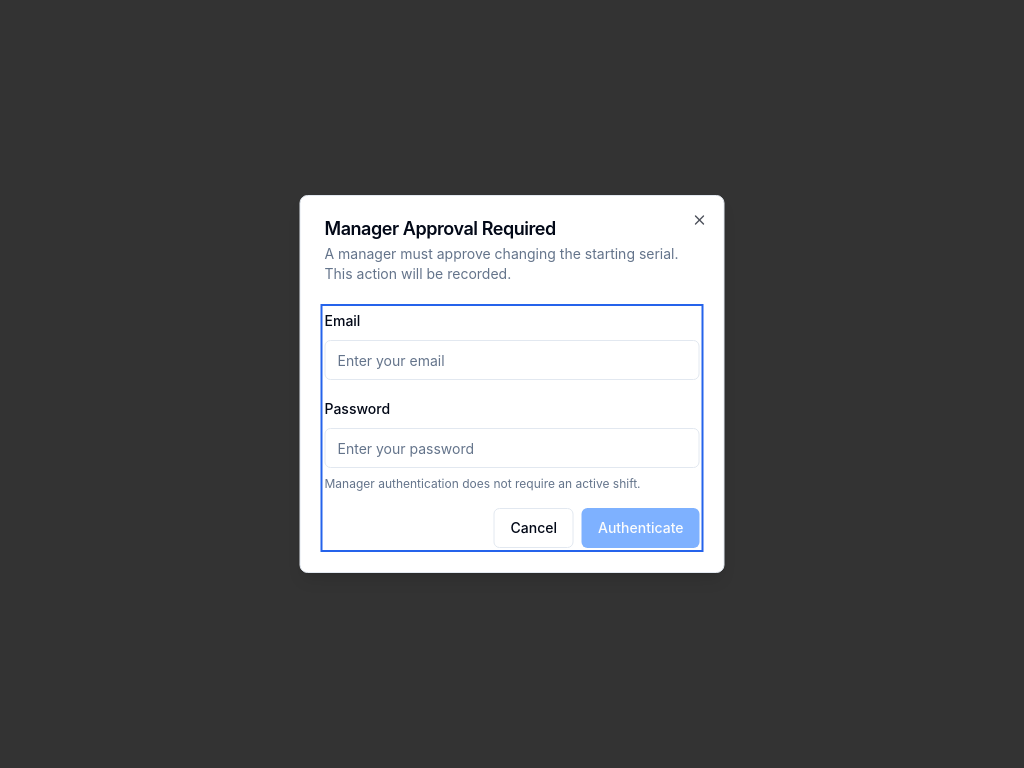
it: LotteryAuthModal › Serial Override Mode › LAM-022: should reject manager without LOTTERY_SERIAL_OVERRIDE permission
Enter email and password
Type "limited@example.com" into the field with test id "email-input".
click(512, 360); type("limited@example.com")  # box [324,340,700,380]
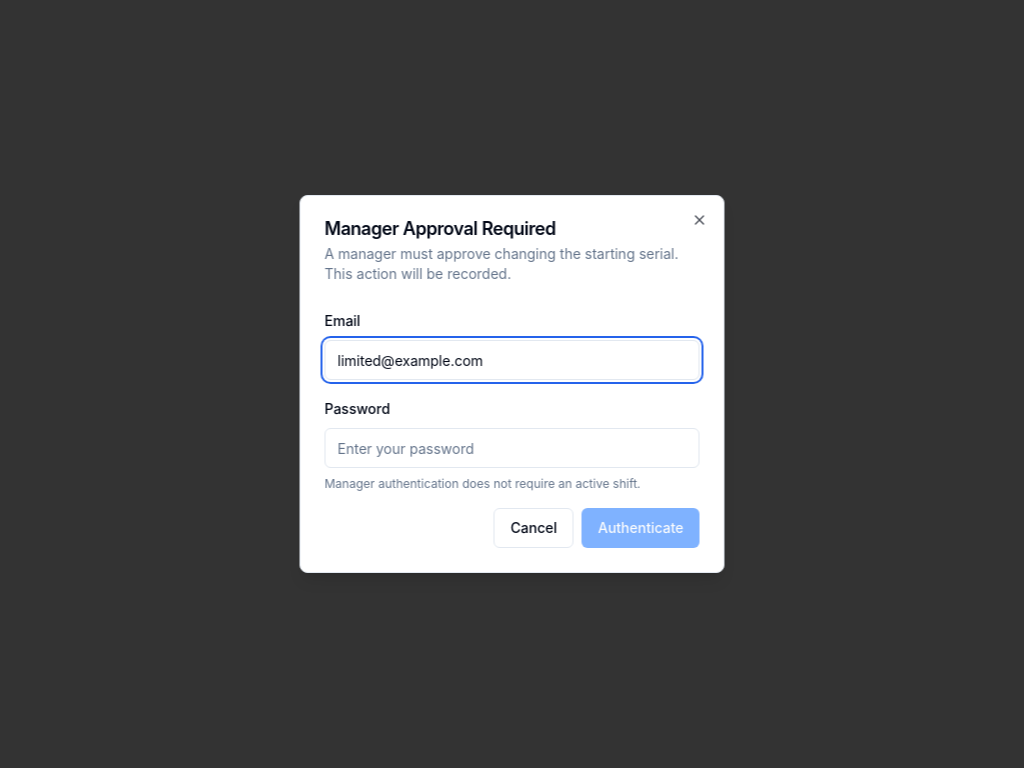
Type "password123" into the password field with test id "password-input".
click(512, 448); type("password123")  # box [324,428,700,468]
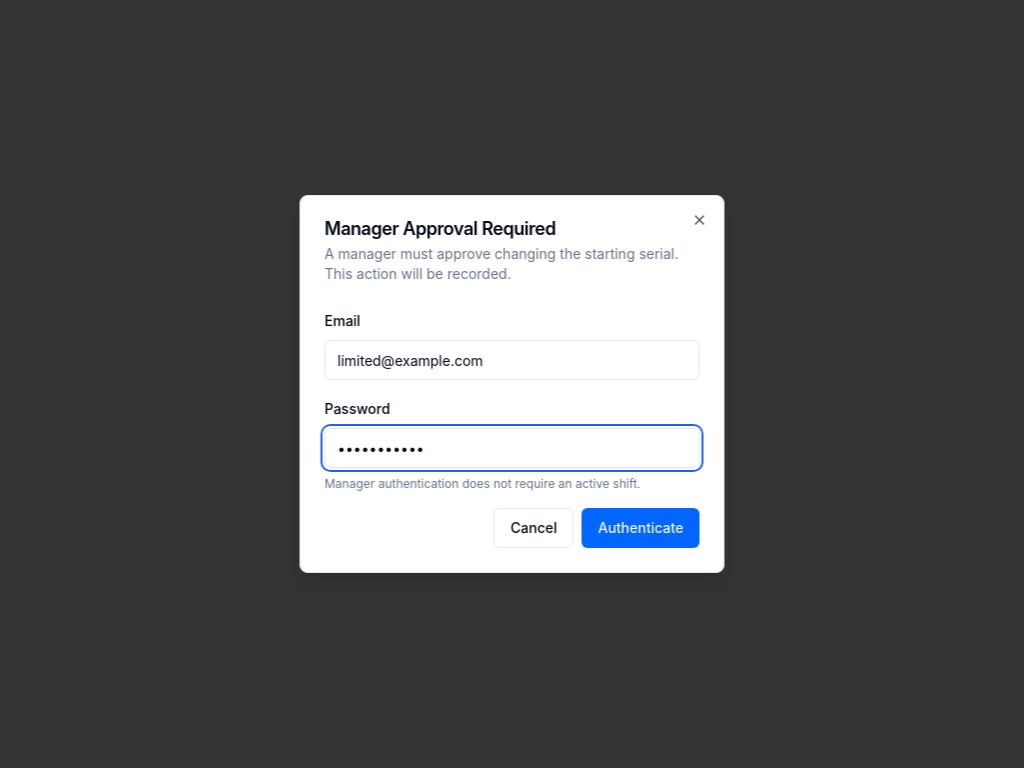
Click the button with test id "authenticate-button".
click(641, 528)  # box [582,508,700,548]
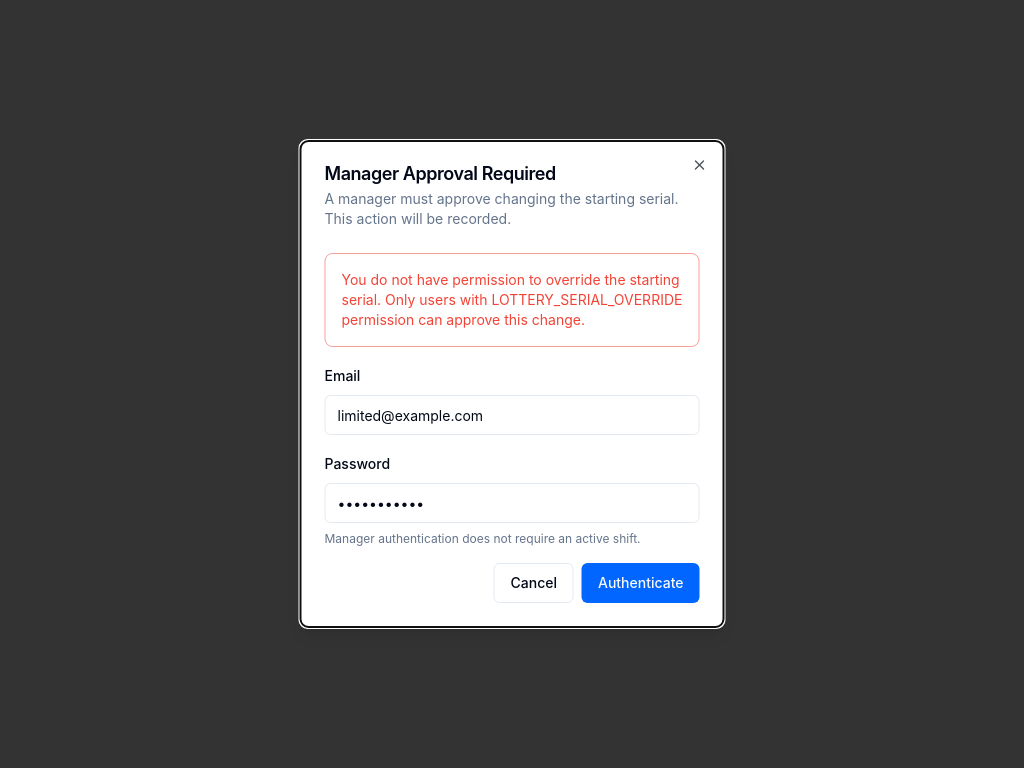
Expected: the text "do not have permission to override the starting serial" is shown, [342,271,682,328]
